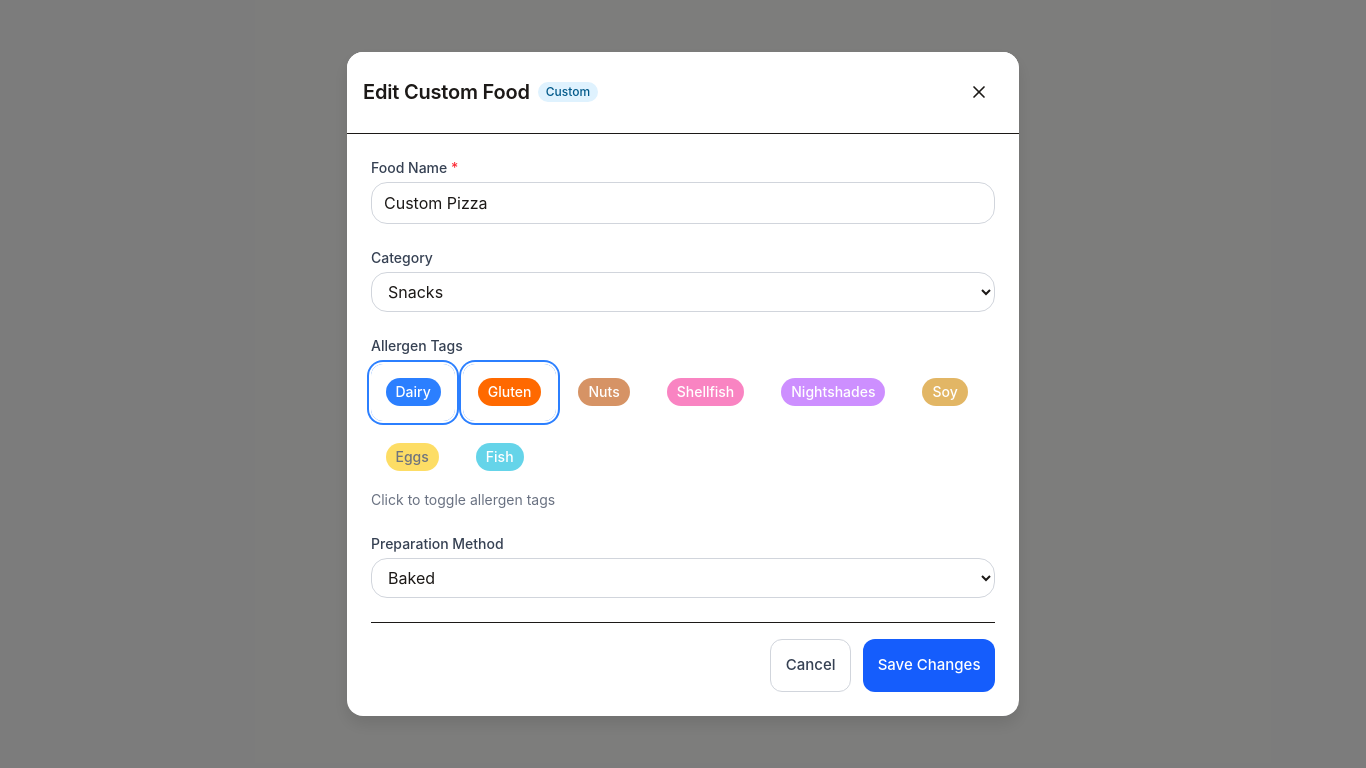
Test: EditFoodModal › Form Validation › should show error when name is too short
Clear the field labelled "Food Name *" at (683, 203), box [371,182,995,224]
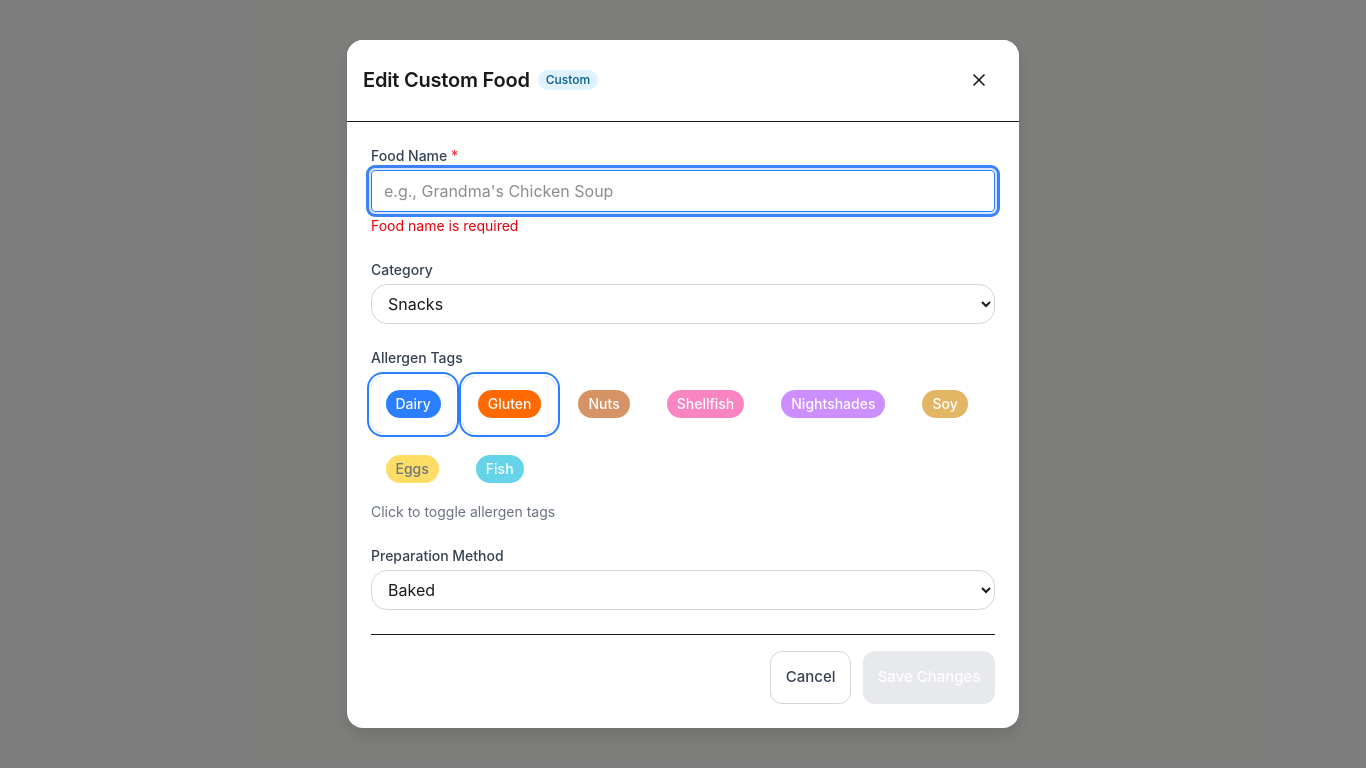
Type "A" into the field labelled "Food Name *" at (683, 191), box [371,170,995,212]
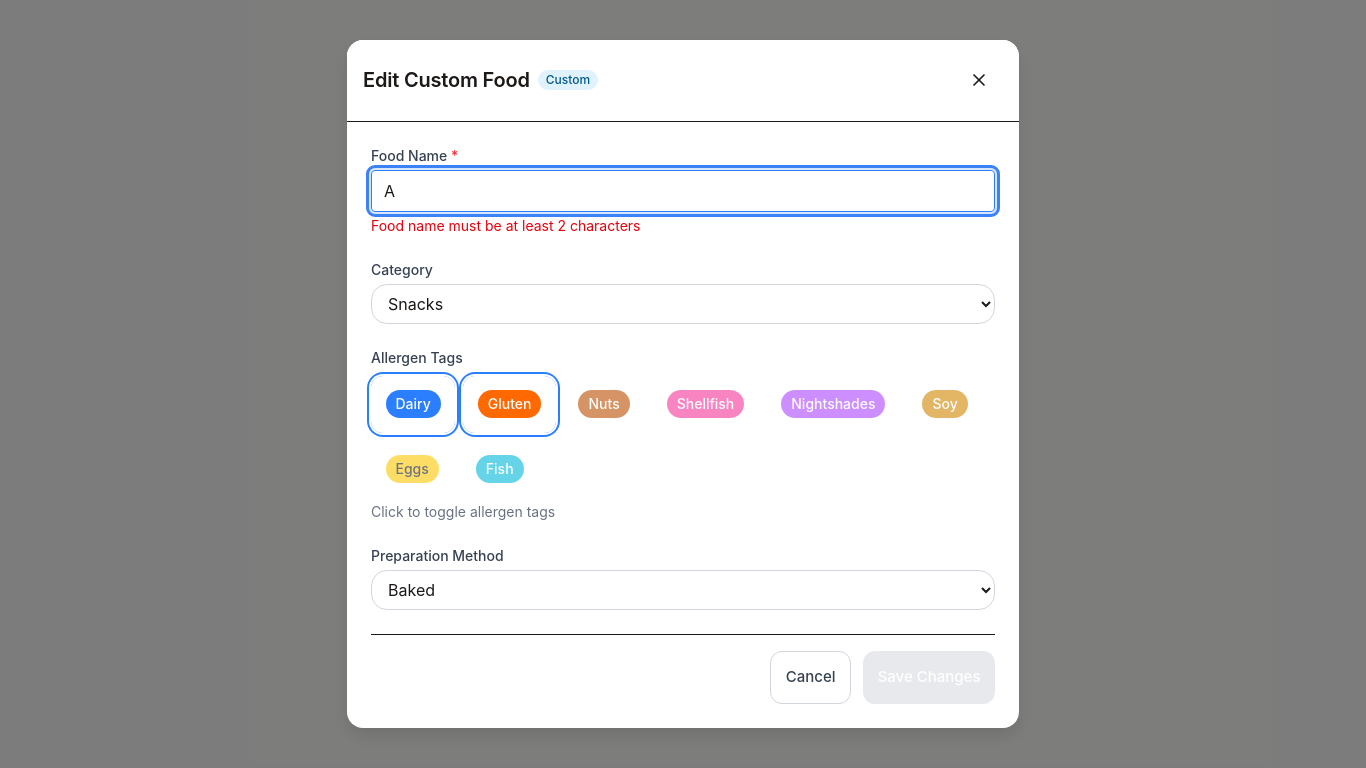
Now the text "Food name must be at least 2 characters" is shown, box [371,217,640,234]
